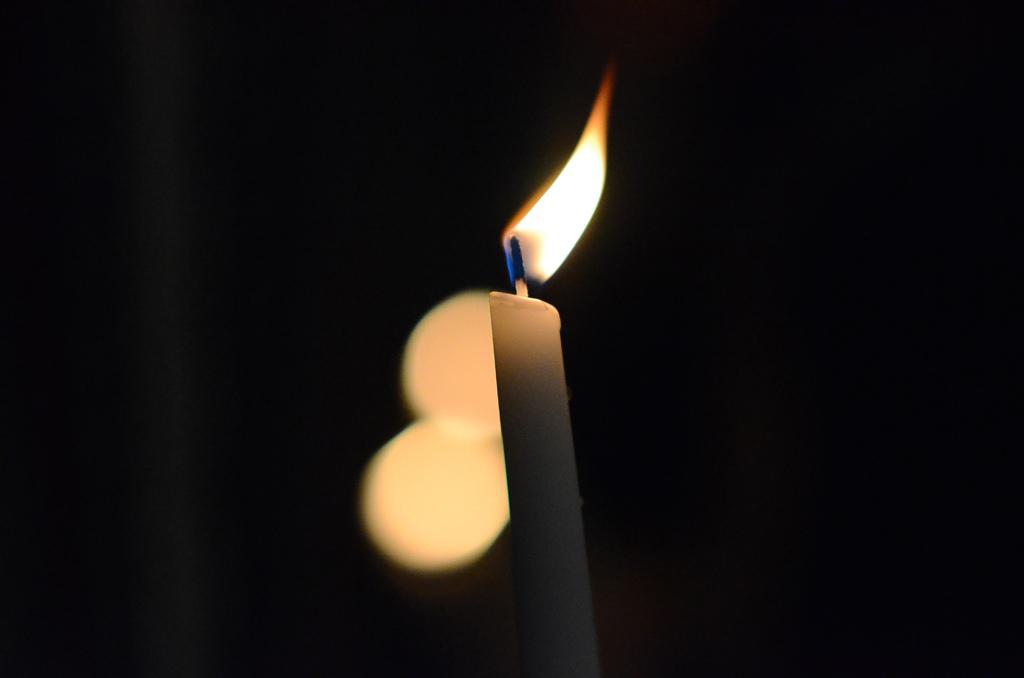fire: (517, 175, 593, 267)
